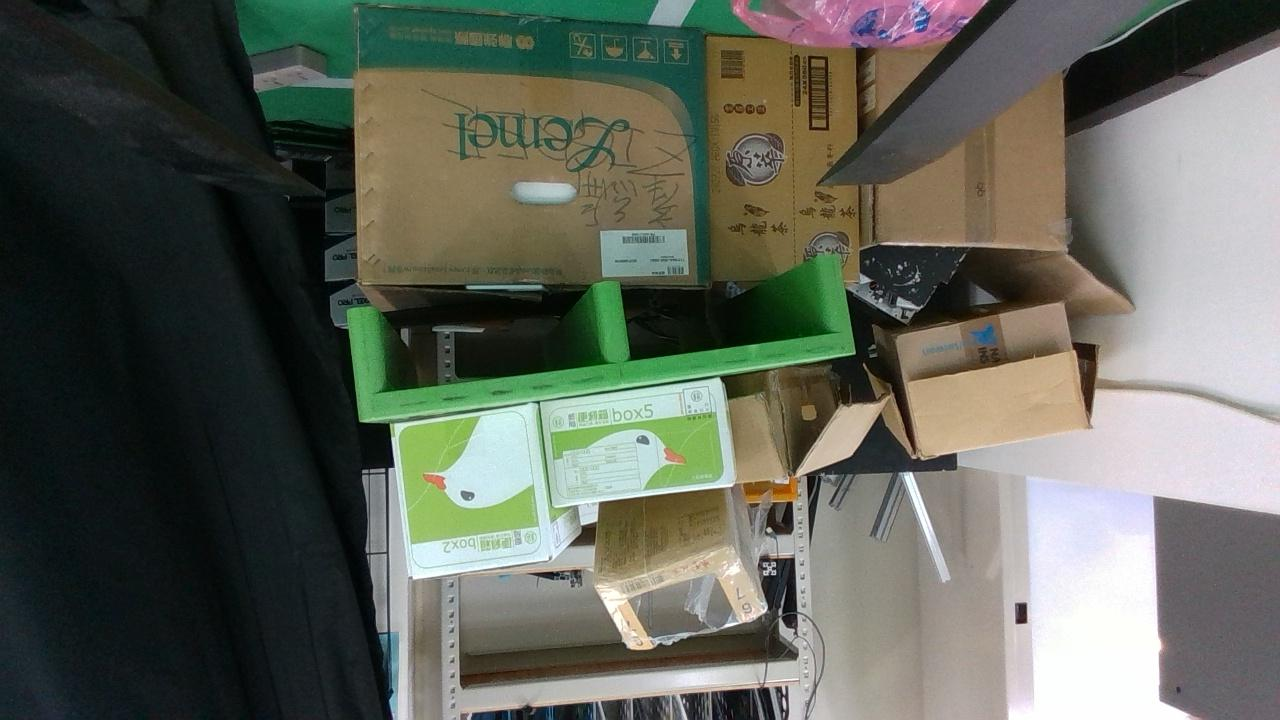Pallet: (345, 252, 855, 419)
